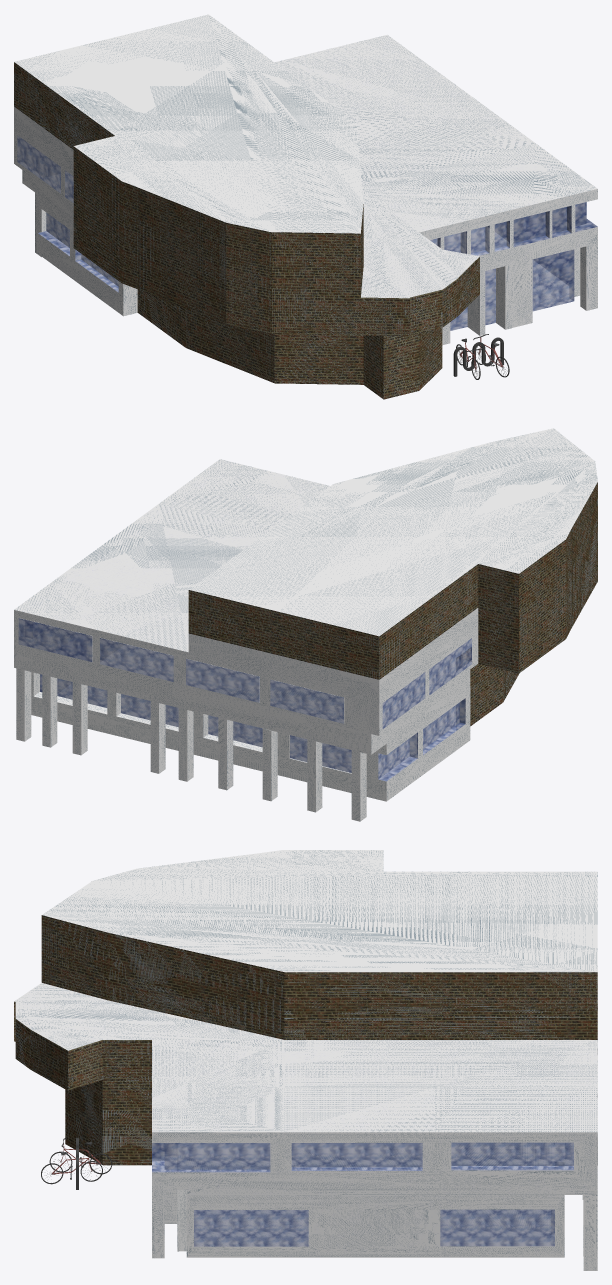
The model's file is Palmer Building.dae.
3 renders of one model, top to bottom at view 1: azimuth 30°, elevation 25°; view 2: azimuth 150°, elevation 25°; view 3: azimuth 270°, elevation 25°, orthographic. The views are drawn at different scales.
Parts seen in each view (by area): view 1: SketchUp (×15); view 2: SketchUp (×24); view 3: SketchUp (×9).
Boxes of the visible parts, <box> form: SketchUp (×15): <box>14,14,597,399</box>; SketchUp (×24): <box>14,428,597,821</box>; SketchUp (×9): <box>14,850,597,1270</box>.
Bounding box in the file's own units: 1453 × 1673 × 658.
Materials: 9 (4 with a texture image).
